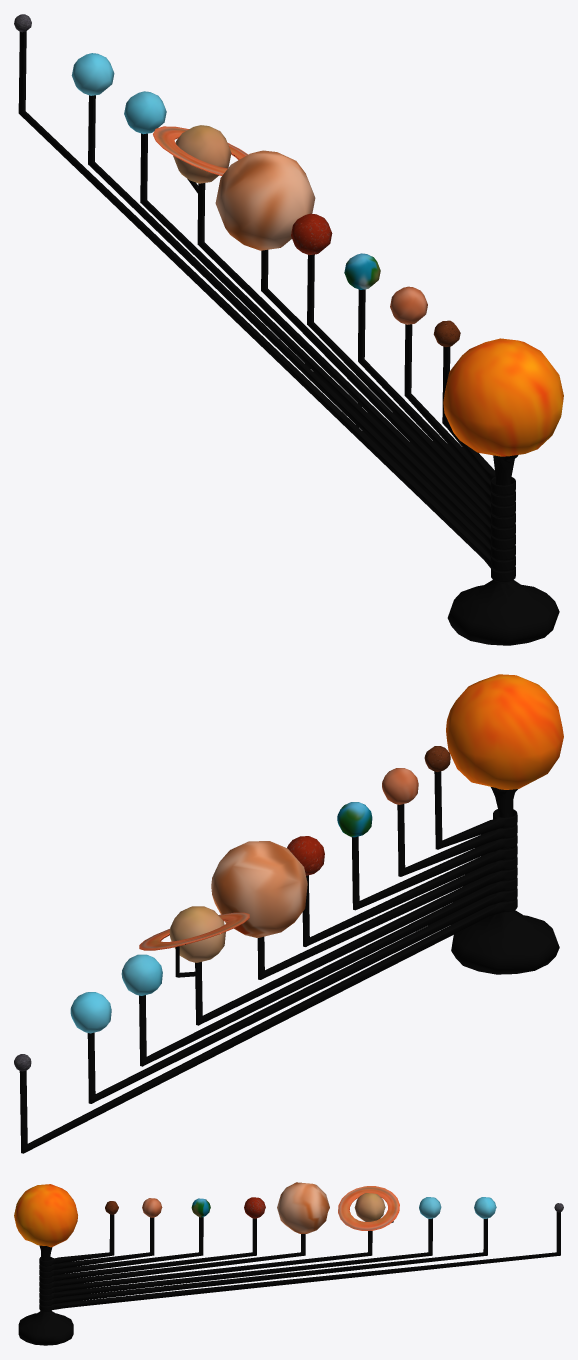
Rendered from orrery-final.fbx.
The picture shows the model from 3 angles, top to bottom: view 1: azimuth 30°, elevation 25°; view 2: azimuth 150°, elevation 25°; view 3: azimuth 270°, elevation 25°; orthographic projection. The views are drawn at different scales.
Parts seen in each view (by area): view 1: sun, jupiter, saturn, neptune, pluto, uranus, mars, earth, venus, mercury; view 2: sun, jupiter, saturn, neptune, pluto, uranus, mars, earth, venus, mercury; view 3: sun, saturn, jupiter, pluto, neptune, uranus, mars, earth, venus, mercury.
Boxes of the visible parts, x1,y1,x2,y2 form: sun: (443,338,563,645); jupiter: (215,150,515,539); saturn: (153,125,515,549); neptune: (71,53,515,571); pluto: (14,14,515,582); uranus: (124,91,515,560); mars: (291,213,515,528); earth: (344,253,515,517); venus: (390,286,515,506); mercury: (433,320,515,495); sun: (446,674,563,974); jupiter: (211,841,517,979); saturn: (139,866,517,1025); neptune: (70,887,517,1103); pluto: (14,897,517,1153); uranus: (121,876,517,1066); mars: (287,836,517,946); earth: (337,802,517,910); venus: (382,768,517,876); mercury: (424,746,517,849); sun: (14,1184,77,1345); saturn: (39,1186,399,1294); jupiter: (39,1182,329,1289); pluto: (39,1203,563,1311); neptune: (39,1197,496,1306); uranus: (39,1197,441,1300); mars: (39,1197,265,1283); earth: (39,1198,210,1277); venus: (39,1198,162,1272); mercury: (39,1201,118,1266).
Size of the model in its own units: 1.58 by 3.93 by 12.81.
